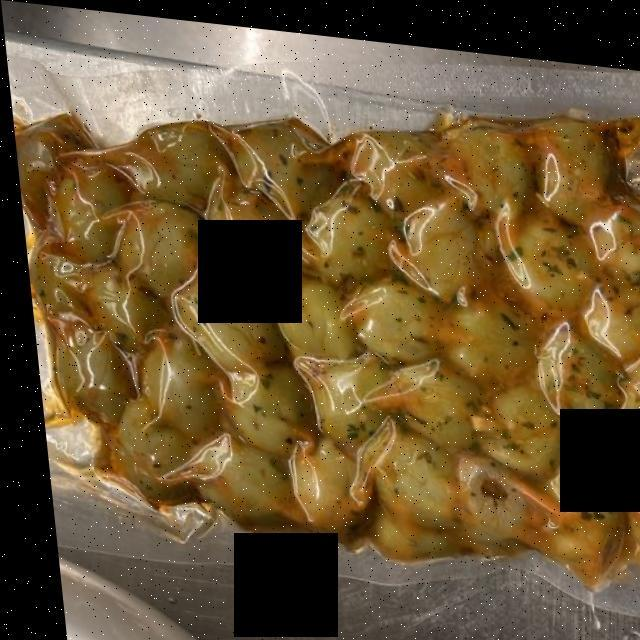green-olives: (26, 108, 640, 568)
